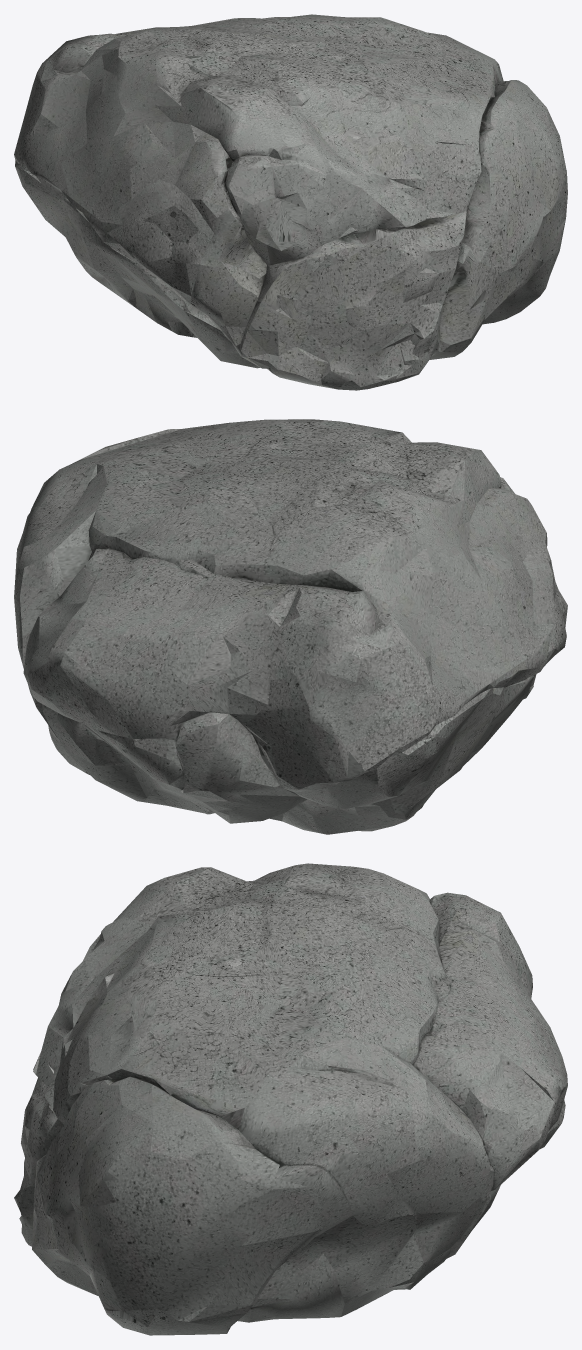
Rendered from granite_boulder.glb.
3 renders of one model, top to bottom at view 1: azimuth 30°, elevation 25°; view 2: azimuth 150°, elevation 25°; view 3: azimuth 270°, elevation 25°, orthographic. The views are drawn at different scales.
Size of the model in its own units: 1.9 by 1.15 by 1.82.
Materials: 1 (1 with a texture image).
